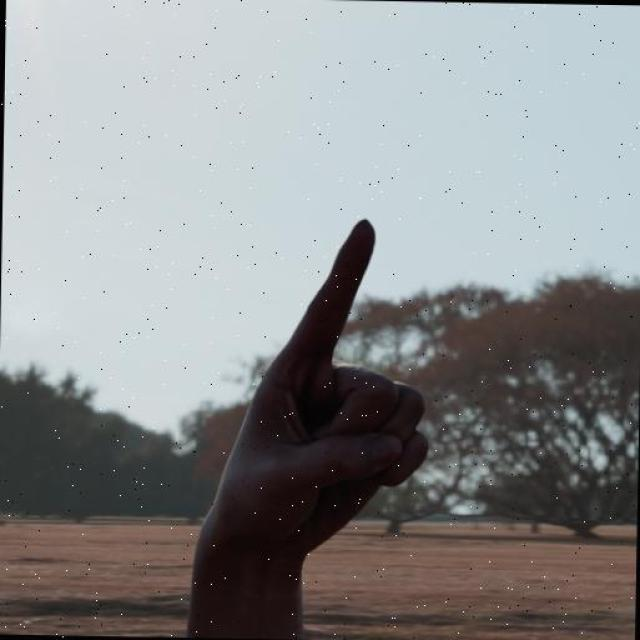Z: (188, 211, 434, 568)
